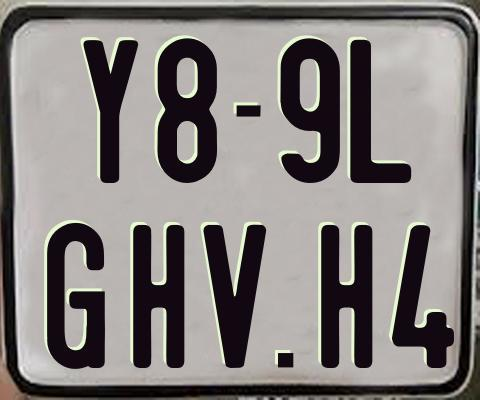4: (389, 222, 453, 369)
8: (157, 37, 221, 185)
9: (280, 35, 341, 186)
G: (47, 223, 105, 375)
H: (320, 225, 378, 370), (130, 224, 184, 369)
L: (347, 38, 412, 186)
V: (200, 222, 269, 365)
Y: (80, 37, 136, 186)
